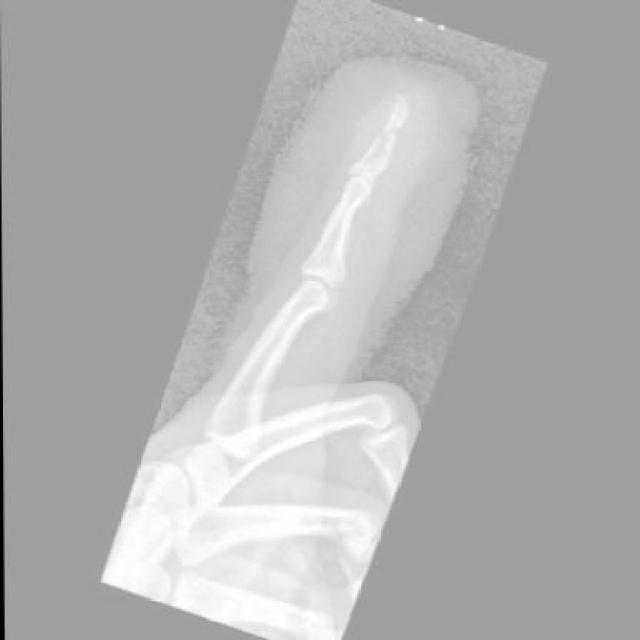Fracture: (370, 111, 407, 154)
